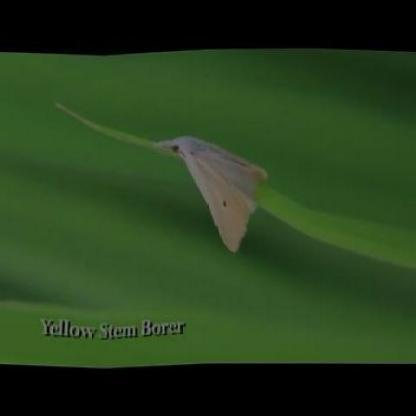stem-borer: (152, 134, 269, 256)
